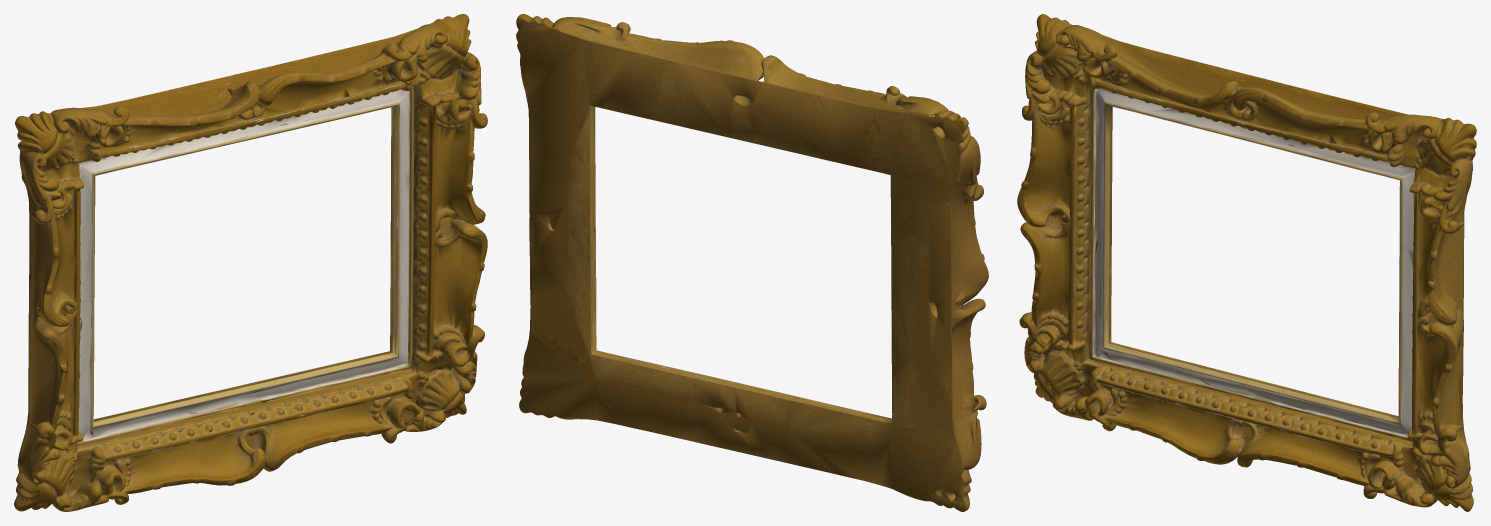
The model's file is gold-frame.glb.
The picture shows the model from 3 angles, left to right: view 1: azimuth 30°, elevation 25°; view 2: azimuth 150°, elevation 25°; view 3: azimuth 330°, elevation 25°; orthographic projection. The views are drawn at different scales.
Visible parts, largest first — view 1: Mesh_0; view 2: Mesh_0; view 3: Mesh_0.
Boxes of the visible parts, left/top/right/bottom form: Mesh_0: left=14, top=14, right=487, bottom=511; Mesh_0: left=516, top=14, right=988, bottom=511; Mesh_0: left=1017, top=14, right=1476, bottom=511.
Size of the model in its own units: 1.71 by 1.46 by 0.1965.
1 material, 1 textured.
